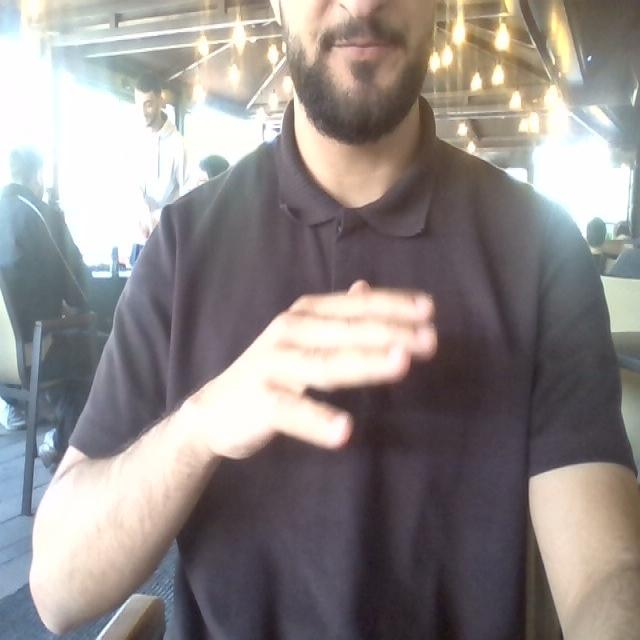Hand: (181, 282, 436, 458)
